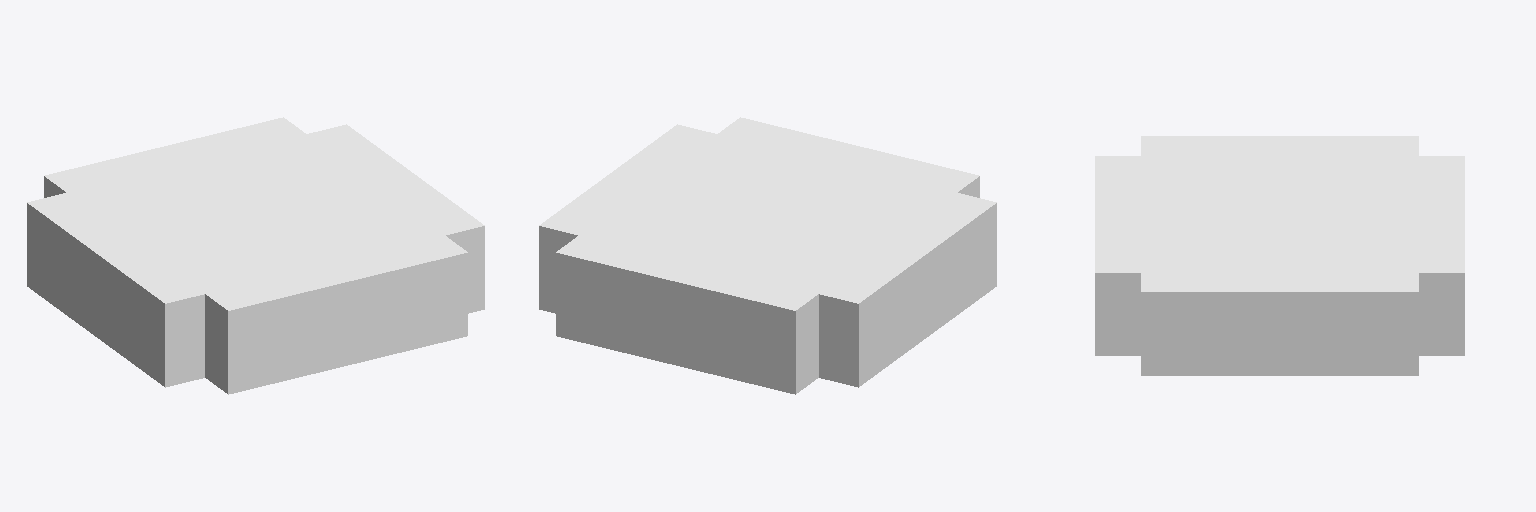
Rendered from Garfield_Pants.obj.
3 renders of one model, left to right at view 1: azimuth 30°, elevation 25°; view 2: azimuth 150°, elevation 25°; view 3: azimuth 270°, elevation 25°, orthographic.
Visible parts, largest first — view 1: object 1; view 2: object 1; view 3: object 1.
Part boxes in pixels (x1,y1,x2,y2): object 1: (27, 117, 484, 394); object 1: (539, 117, 996, 394); object 1: (1095, 136, 1464, 375).
Size of the model in its own units: 0.8 by 0.2 by 0.8.